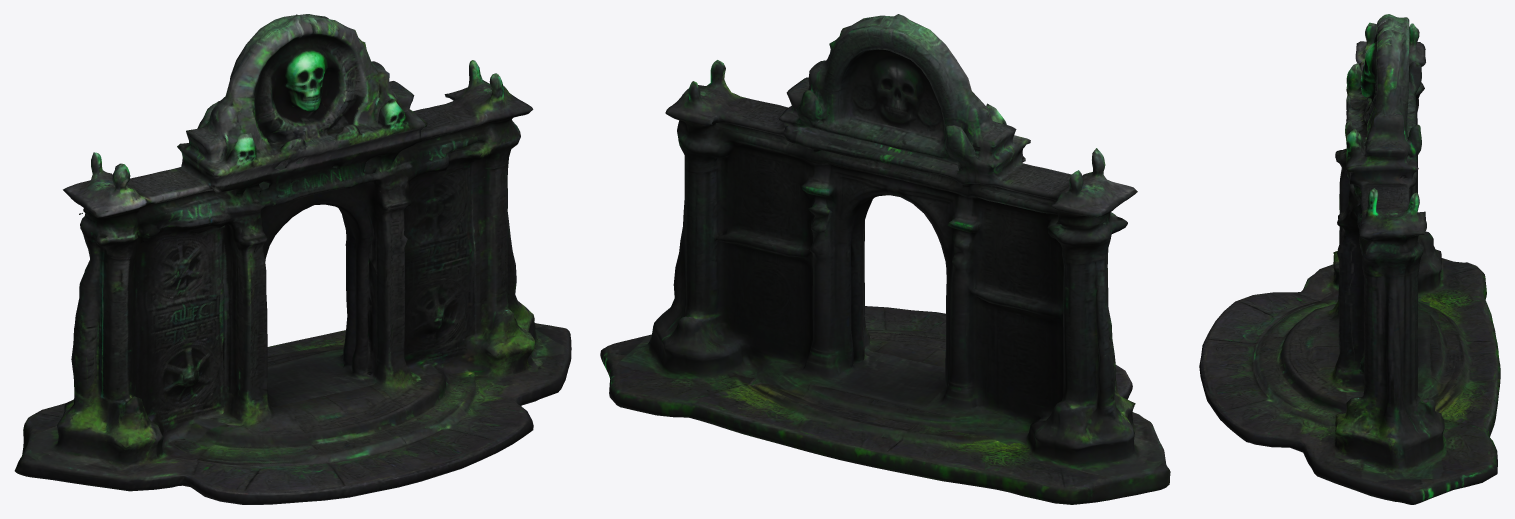
File: The_object_features_a_0613161956_texture.fbx
The picture shows the model from 3 angles, left to right: view 1: azimuth 30°, elevation 25°; view 2: azimuth 150°, elevation 25°; view 3: azimuth 270°, elevation 25°; orthographic projection. The views are drawn at different scales.
Parts seen in each view (by area): view 1: Mesh1_Mesh1.030; view 2: Mesh1_Mesh1.030; view 3: Mesh1_Mesh1.030.
Part boxes in pixels (box(x1,y1,x2,y2)): Mesh1_Mesh1.030: box(14, 14, 571, 504); Mesh1_Mesh1.030: box(600, 14, 1170, 504); Mesh1_Mesh1.030: box(1199, 14, 1500, 504).
Bounding box in the file's own units: 121 × 83.74 × 62.56.
Materials: 1 (1 with a texture image).
